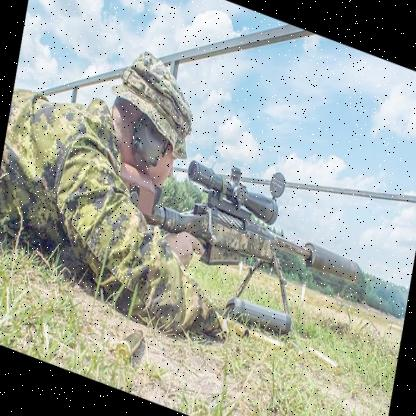rifle: (148, 144, 344, 294)
